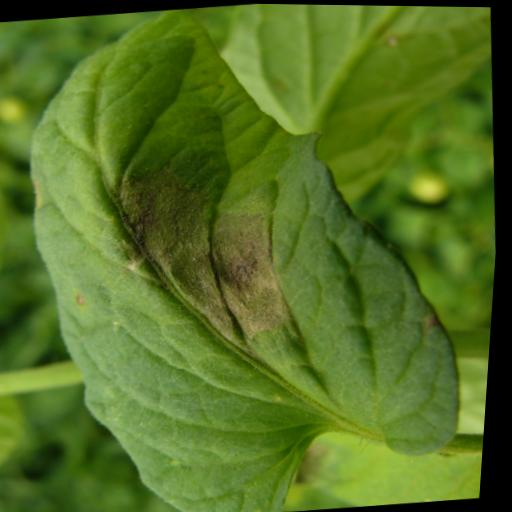Late Blight: (0, 0, 498, 512)
